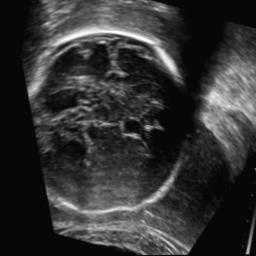normal: (0, 1, 213, 235)
